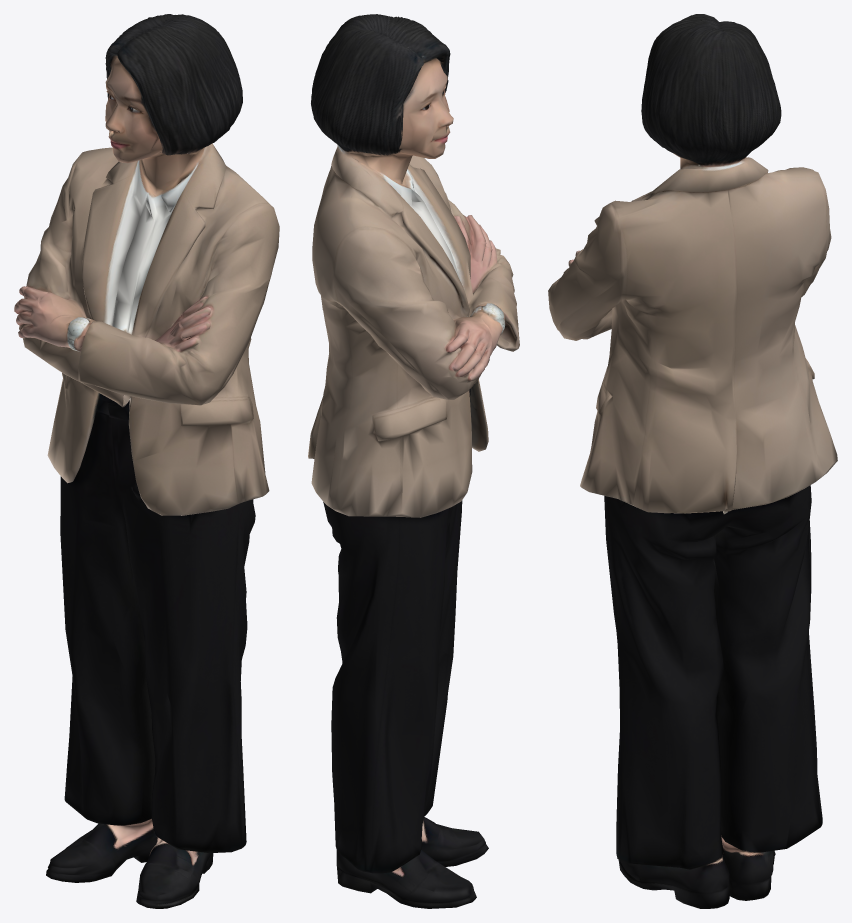
Rendered from person-business-w03.glb.
The picture shows the model from 3 angles, left to right: view 1: azimuth 30°, elevation 25°; view 2: azimuth 150°, elevation 25°; view 3: azimuth 270°, elevation 25°; orthographic projection. The views are drawn at different scales.
Visible parts, largest first — view 1: JPGV01_W03_L10k; view 2: JPGV01_W03_L10k; view 3: JPGV01_W03_L10k.
Part boxes in pixels (x1=…): JPGV01_W03_L10k: x1=14, y1=14, x2=279, y2=908; JPGV01_W03_L10k: x1=308, y1=14, x2=519, y2=908; JPGV01_W03_L10k: x1=548, y1=14, x2=837, y2=908.
Size of the model in its own units: 0.3884 by 1.6 by 0.4862.
1 material, 1 textured.
